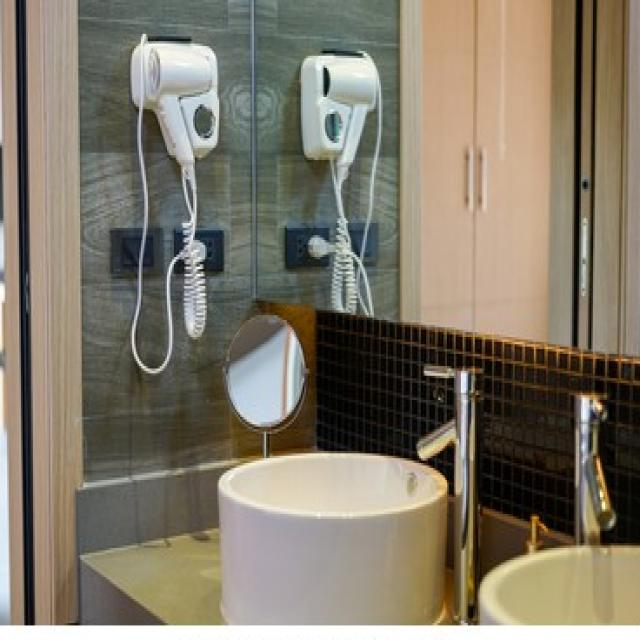dryer: (108, 30, 232, 378), (286, 36, 392, 315)
